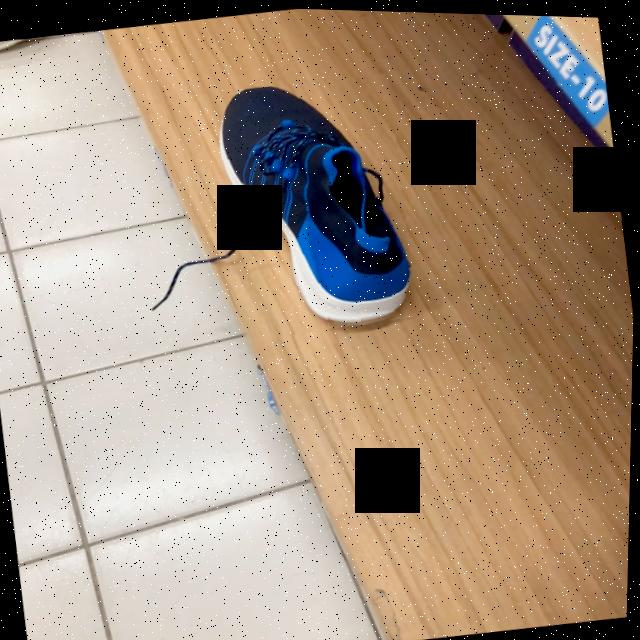shoe: (220, 85, 413, 324)
